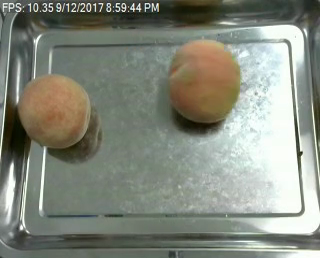Peach: (167, 38, 240, 124), (17, 73, 92, 150)
